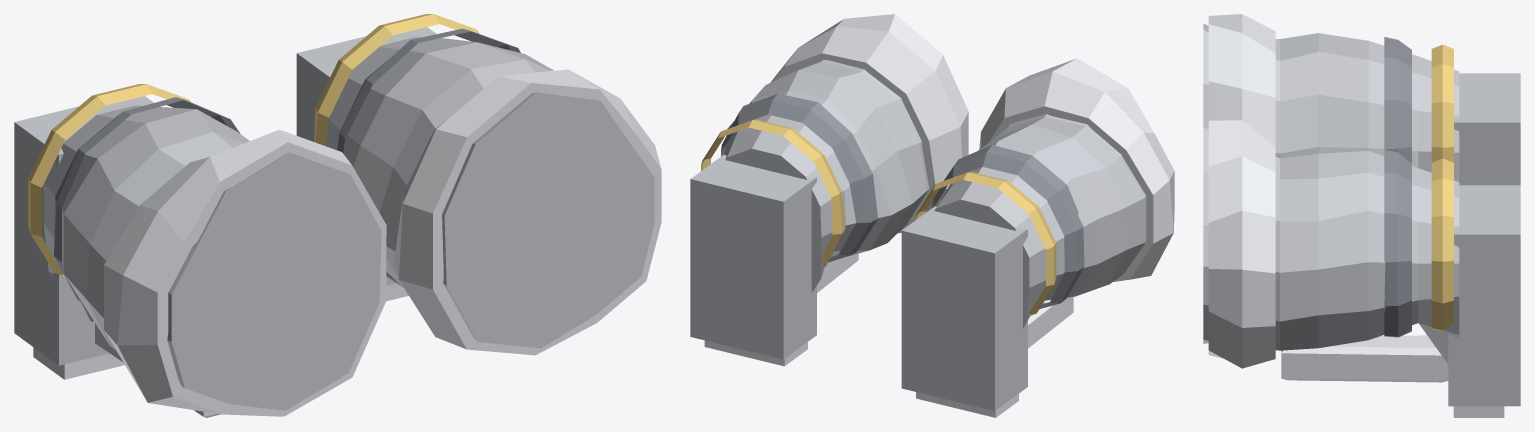
Rendered from boots_plated.glb.
3 renders of one model, left to right at view 1: azimuth 30°, elevation 25°; view 2: azimuth 150°, elevation 25°; view 3: azimuth 270°, elevation 25°, orthographic. The views are drawn at different scales.
Parts seen in each view (by area): view 1: LowerLegR, LowerLegL, FootR, FootL; view 2: LowerLegR, LowerLegL, FootR, FootL; view 3: LowerLegL, LowerLegR, FootL, FootR.
Boxes of the visible parts, <box> form: LowerLegR: <box>28,84,386,417</box>; LowerLegL: <box>314,14,661,355</box>; FootR: <box>14,96,153,379</box>; FootL: <box>296,27,441,301</box>; LowerLegR: <box>915,58,1174,348</box>; LowerLegL: <box>701,14,968,292</box>; FootR: <box>901,206,1027,417</box>; FootL: <box>690,155,816,366</box>; LowerLegL: <box>1203,120,1459,382</box>; LowerLegR: <box>1203,14,1459,181</box>; FootL: <box>1448,185,1520,417</box>; FootR: <box>1454,73,1520,185</box>.
Bounding box in the file's own units: 0.9154 × 0.5315 × 0.57.
